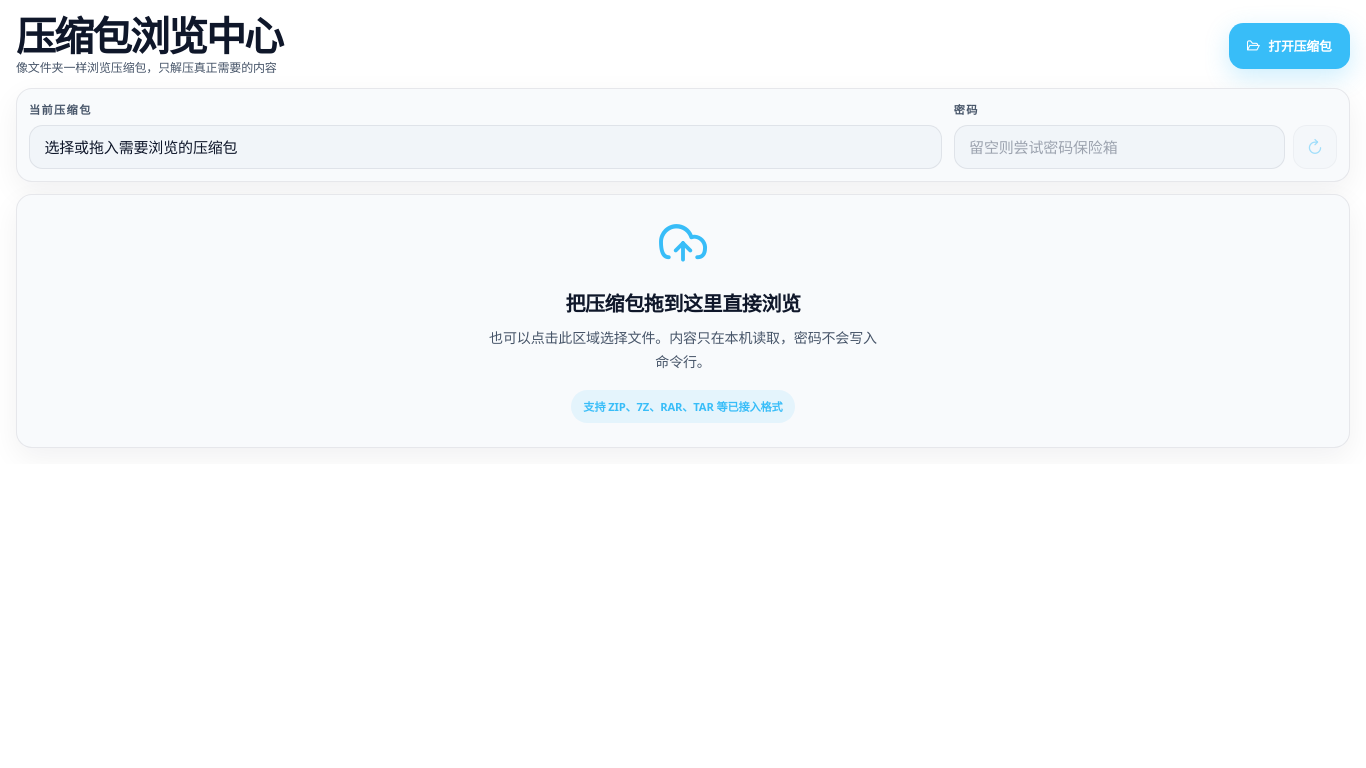
Test: ArchiveBrowserView › clears only its own failed-browse message after successful password correction; unrelated=false
The image size is (1366, 768).
Click the button with class "browser-primary".
click(1289, 46)  # box [1228,23,1350,69]
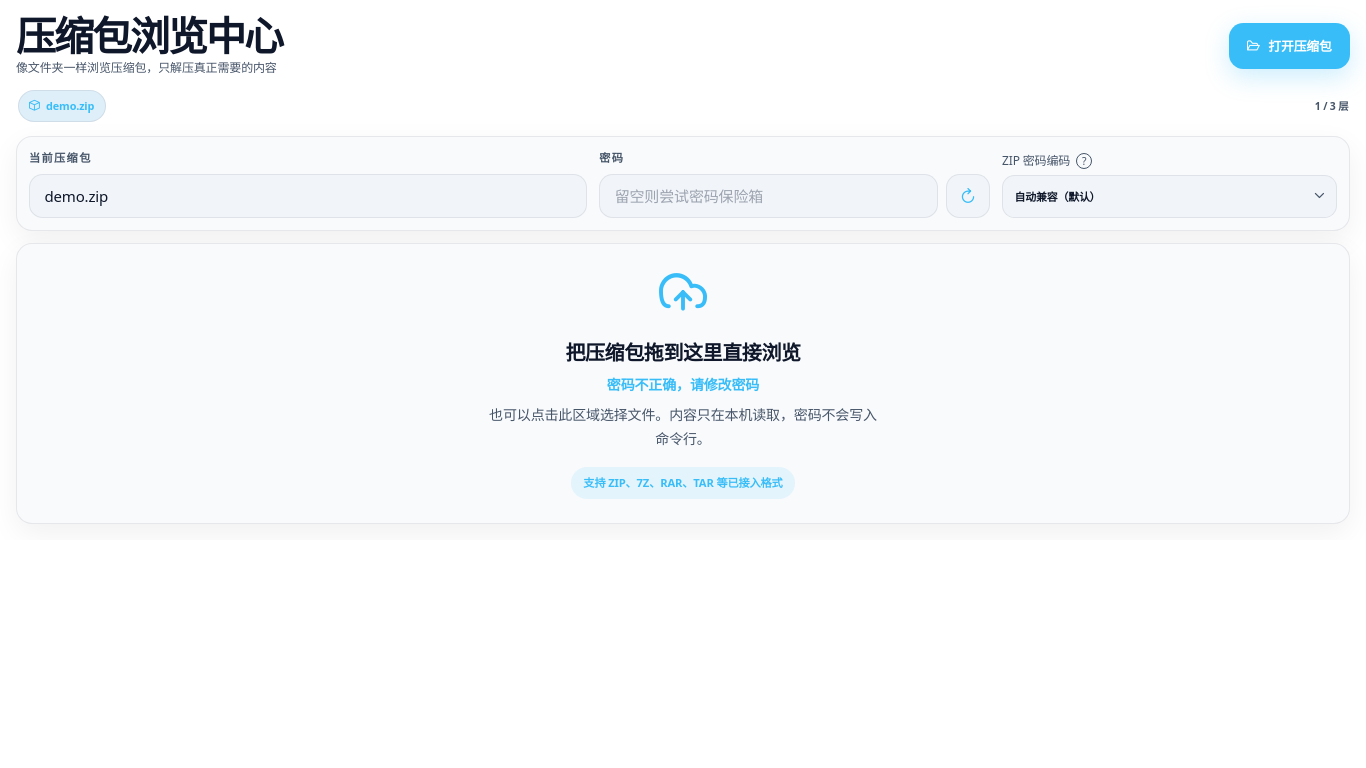
Type "corrected password" into the password field with placeholder "留空则尝试密码保险箱".
click(769, 196); type("corrected password")  # box [599,174,938,218]
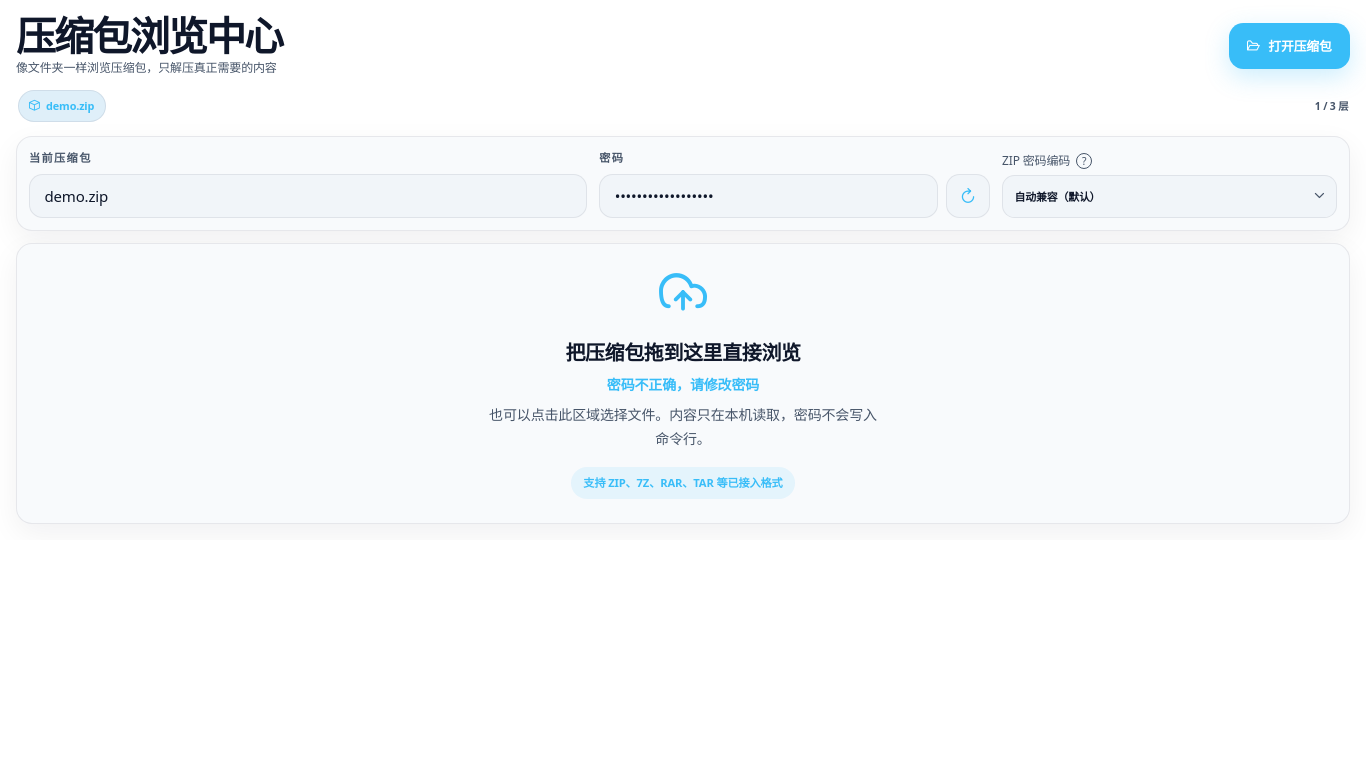
Click the button titled "重新读取".
click(968, 196)  # box [946,174,990,218]
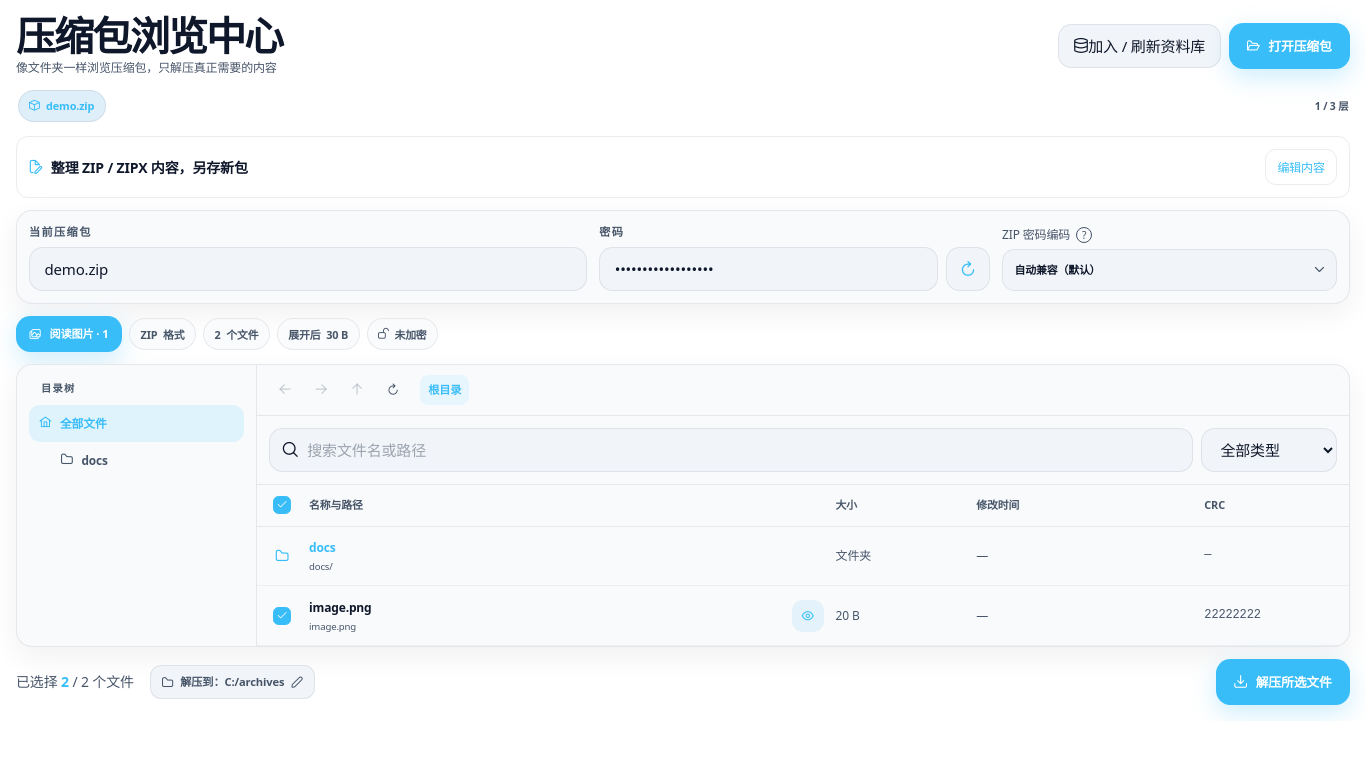
expect the row "image.png image.png 20 B — 22222222" is shown: met, box [257,586,1349,646]
